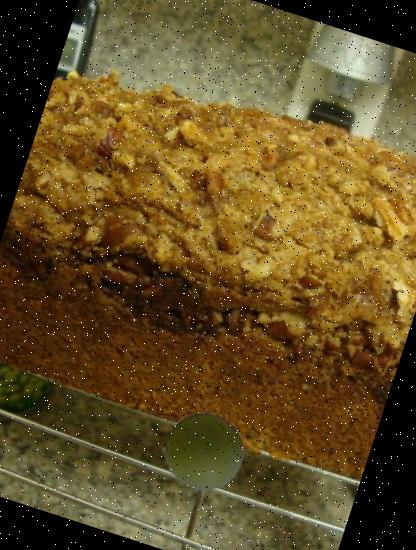Grape: (154, 402, 256, 502)
